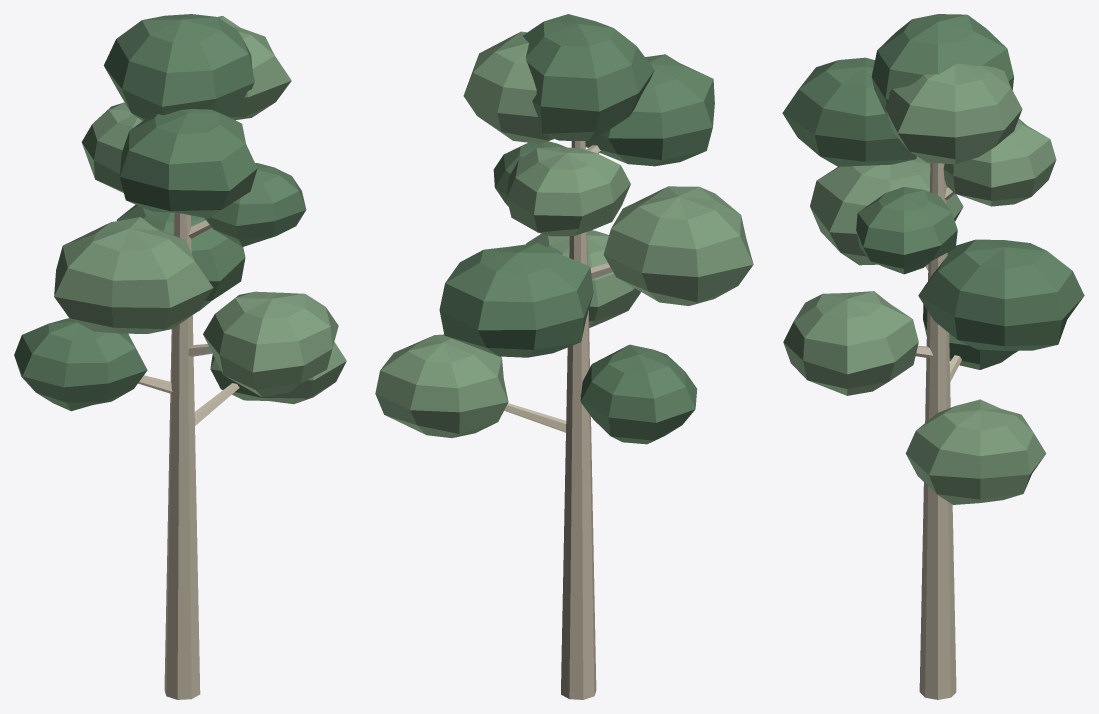
Rendered from tree_eucalyptus_medium.glb.
3 renders of one model, left to right at view 1: azimuth 30°, elevation 25°; view 2: azimuth 150°, elevation 25°; view 3: azimuth 270°, elevation 25°, orthographic.
Parts seen in each view (by area): view 1: tree_eucalyptus_medium; view 2: tree_eucalyptus_medium; view 3: tree_eucalyptus_medium.
Part boxes in pixels (x1,y1,x2,y2): tree_eucalyptus_medium: [14, 14, 346, 699]; tree_eucalyptus_medium: [375, 14, 753, 699]; tree_eucalyptus_medium: [782, 14, 1084, 699].
Size of the model in its own units: 4.83 by 9.72 by 3.97.
